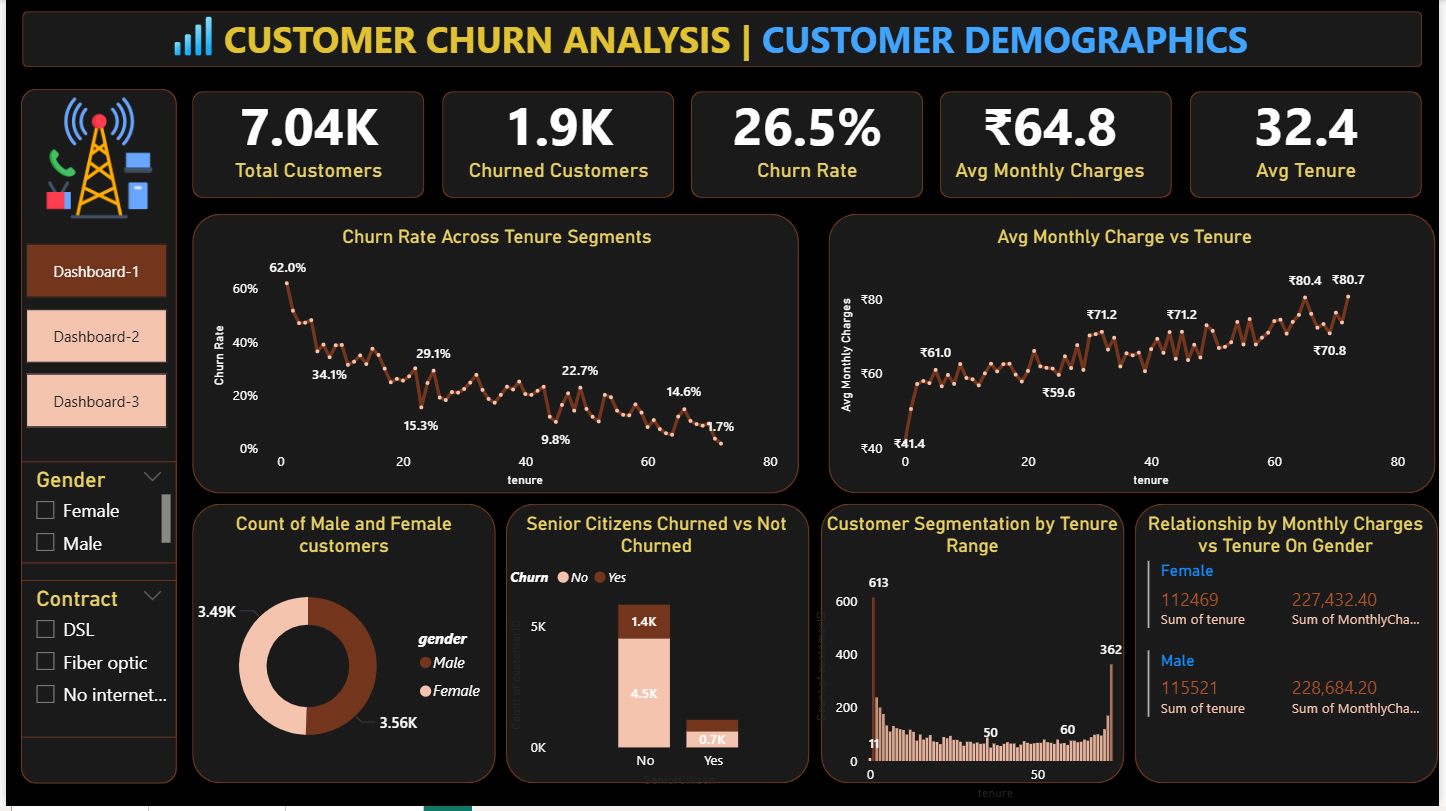

The page's visual inventory and layout, read from the dashboard file:
{"tool":"powerbi","page":{"name":"Dashboard-1","canvas":[1280,720],"ordinal":0},"visuals":[{"type":"shape","box":[14.1,10.6,1250.7,50],"z":0},{"type":"textbox","box":[189.6,7.6,946.4,57.5],"z":1000,"group":"g1"},{"type":"shape","box":[13.6,78.7,139.3,620.8],"z":1000},{"type":"shape","box":[166.6,81.5,207.4,95.4],"z":2000},{"type":"shape","box":[166.6,190.8,542,250],"z":3000},{"type":"shape","box":[734.4,190.8,542.1,249.8],"z":4000},{"type":"shape","box":[389.2,81.5,207.4,95.4],"z":5000},{"type":"shape","box":[611.7,81.5,207.4,95.4],"z":6000},{"type":"shape","box":[834.3,81.5,207.4,95.4],"z":7000},{"type":"shape","box":[1056.9,81.5,207.4,95.4],"z":8000},{"type":"card","title":"Total Customer","fields":{"Values":["Telco_Customer_Churn_Data.Total Customers K"]},"box":[180.2,65.1,181.7,112.1],"z":9000},{"type":"card","title":"Total Customer","fields":{"Values":["Telco_Customer_Churn_Data.Churned Customers K"]},"box":[402.8,65.1,181.7,112.1],"z":10000},{"type":"card","title":"Total Customer","fields":{"Values":["Telco_Customer_Churn_Data.Churn Rate"]},"box":[625.4,65.1,181.7,112.1],"z":11000},{"type":"card","title":"Total Customer","fields":{"Values":["Telco_Customer_Churn_Data.Avg Monthly Charges"]},"box":[841.9,65.1,181.7,112.1],"z":12000},{"type":"card","title":"Total Customer","fields":{"Values":["Telco_Customer_Churn_Data.Avg Tenure"]},"box":[1070.5,65.1,181.7,112.1],"z":13000},{"type":"shape","box":[166.6,450.1,271,249.8],"z":14000},{"type":"shape","box":[447.2,450.1,271,249.8],"z":15000},{"type":"shape","box":[727.8,450.1,271,249.8],"z":16000},{"type":"shape","box":[1008.5,450.1,271,249.8],"z":17000},{"type":"donutChart","title":"Count of Male and Female customers","fields":{"Category":["Telco_Customer_Churn_Data.gender"],"Y":["CountNonNull(Telco_Customer_Churn_Data.customerID)"]},"box":[166.6,457.3,271,236.2],"z":18000},{"type":"columnChart","title":"Senior Citizens Churned vs Not Churned","fields":{"Series":["Telco_Customer_Churn_Data.Churn"],"Category":["Telco_Customer_Churn_Data.SeniorCitizen"],"Y":["CountNonNull(Telco_Customer_Churn_Data.customerID)"]},"box":[445.2,457.3,271,249.8],"z":19000},{"type":"clusteredColumnChart","title":"Customer Segmentation by Tenure Range","fields":{"Y":["CountNonNull(Telco_Customer_Churn_Data.customerID)"],"Category":["Telco_Customer_Churn_Data.tenure"]},"box":[717.7,457.3,290.7,262],"z":20000},{"type":"multiRowCard","title":"Relationship by Monthly Charges vs Tenure On Gender","fields":{"Values":["Telco_Customer_Churn_Data.gender","Sum(Telco_Customer_Churn_Data.tenure)","Sum(Telco_Customer_Churn_Data.MonthlyCharges)"]},"box":[1014.5,457.3,255.9,236.2],"z":21000},{"type":"lineChart","title":"Churn Rate Across Tenure Segments","fields":{"Category":["Telco_Customer_Churn_Data.tenure"],"Y":["Telco_Customer_Churn_Data.Churn Rate"]},"box":[180.2,201.4,517.9,239.2],"z":22000},{"type":"lineChart","title":"Avg Monthly Charge vs Tenure","fields":{"Category":["Telco_Customer_Churn_Data.tenure"],"Y":["Telco_Customer_Churn_Data.Avg Monthly Charges"]},"box":[740.4,201.4,517.9,239.2],"z":23000},{"type":"slicer","fields":{"Values":["Telco_Customer_Churn_Data.gender"]},"box":[13.6,411.9,139.3,90.9],"z":24000},{"type":"image","box":[145.4,7.6,43.9,48.5],"z":24004,"group":"g1"},{"type":"slicer","fields":{"Values":["Telco_Customer_Churn_Data.InternetService"]},"box":[13.6,517.9,139.3,140.8],"z":25000},{"type":"image","box":[24.2,81.8,118.1,119.6],"z":26000},{"type":"group","id":"g1","title":"Group 1","box":[145.4,7.6,990.3,57.5],"z":27000},{"type":"pageNavigator","box":[18.4,217.9,126.8,165.8],"z":28000}]}

Visuals, with their boxes on the page's 1280x720 design canvas (x1, y1, x2, y2). These are canvas units, not pixel positions in the 1446x811 screenshot, which may show the page scaled, cropped or inside an application window:
shape: locate(14, 11, 1265, 61)
textbox: locate(190, 8, 1136, 65)
shape: locate(14, 79, 153, 700)
shape: locate(167, 82, 374, 177)
shape: locate(167, 191, 709, 441)
shape: locate(734, 191, 1276, 441)
shape: locate(389, 82, 597, 177)
shape: locate(612, 82, 819, 177)
shape: locate(834, 82, 1042, 177)
shape: locate(1057, 82, 1264, 177)
"Total Customer" card: locate(180, 65, 362, 177)
"Total Customer" card: locate(403, 65, 584, 177)
"Total Customer" card: locate(625, 65, 807, 177)
"Total Customer" card: locate(842, 65, 1024, 177)
"Total Customer" card: locate(1070, 65, 1252, 177)
shape: locate(167, 450, 438, 700)
shape: locate(447, 450, 718, 700)
shape: locate(728, 450, 999, 700)
shape: locate(1008, 450, 1280, 700)
"Count of Male and Female customers" donutChart: locate(167, 457, 438, 694)
"Senior Citizens Churned vs Not Churned" columnChart: locate(445, 457, 716, 707)
"Customer Segmentation by Tenure Range" clusteredColumnChart: locate(718, 457, 1008, 719)
"Relationship by Monthly Charges vs Tenure On Gender" multiRowCard: locate(1014, 457, 1270, 694)
"Churn Rate Across Tenure Segments" lineChart: locate(180, 201, 698, 441)
"Avg Monthly Charge vs Tenure" lineChart: locate(740, 201, 1258, 441)
slicer - Telco_Customer_Churn_Data.gender: locate(14, 412, 153, 503)
image: locate(145, 8, 189, 56)
slicer - Telco_Customer_Churn_Data.InternetService: locate(14, 518, 153, 659)
image: locate(24, 82, 142, 201)
"Group 1" group: locate(145, 8, 1136, 65)
pageNavigator: locate(18, 218, 145, 384)
